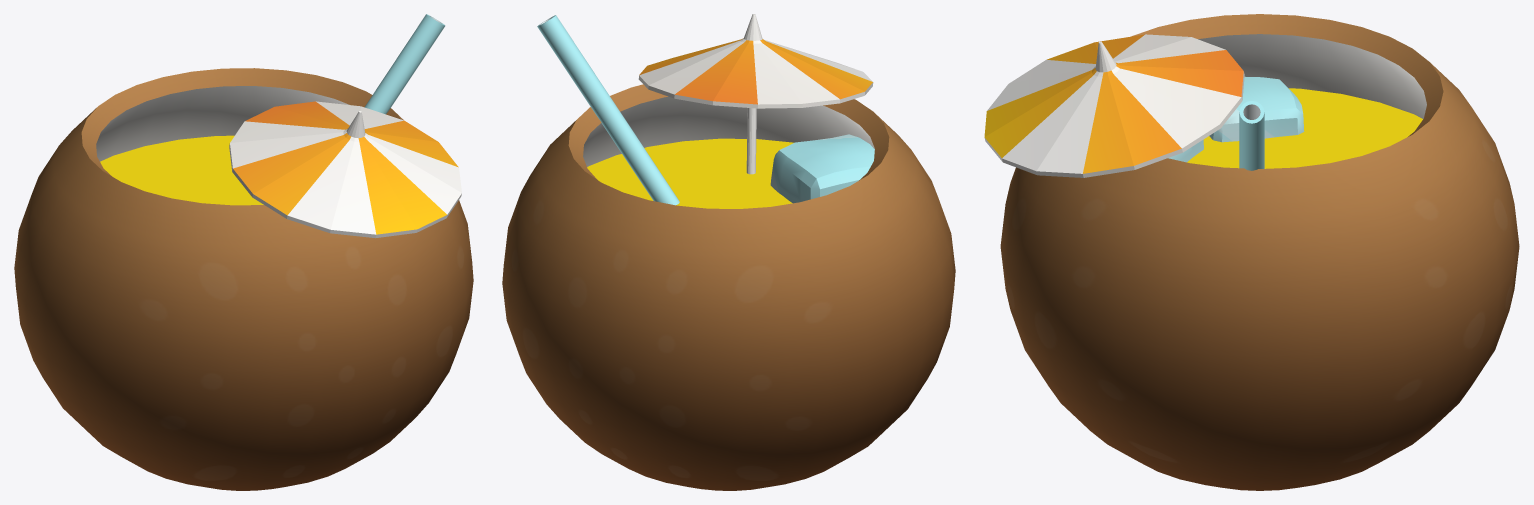
The model's file is Coconut Cocktail.fbx.
The picture shows the model from 3 angles, left to right: view 1: azimuth 30°, elevation 25°; view 2: azimuth 150°, elevation 25°; view 3: azimuth 270°, elevation 25°; orthographic projection. The views are drawn at different scales.
Parts seen in each view (by area): view 1: Coconut Cocktail; view 2: Coconut Cocktail; view 3: Coconut Cocktail.
Part boxes in pixels (x1,y1,x2,y2): Coconut Cocktail: (14, 14, 473, 490); Coconut Cocktail: (502, 14, 955, 490); Coconut Cocktail: (984, 14, 1519, 490).
Size of the model in its own units: 15.36 by 15.15 by 15.83.
